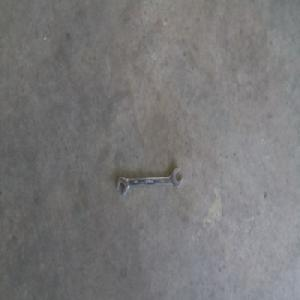Wrench: (115, 165, 182, 193)
